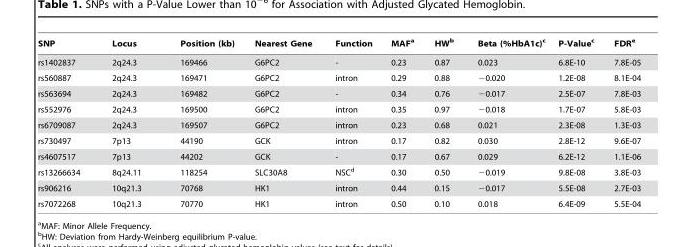table: (37, 37, 640, 208)
table column: (465, 37, 551, 208), (160, 37, 243, 208), (243, 37, 323, 208), (95, 37, 160, 208), (37, 37, 95, 208), (323, 37, 381, 208), (551, 37, 603, 208), (381, 37, 423, 208), (423, 37, 465, 208), (603, 37, 640, 208)
table column header: (37, 37, 640, 52)
table row: (37, 52, 640, 69), (37, 163, 640, 180), (37, 69, 640, 85), (37, 85, 640, 101), (37, 101, 640, 117), (37, 132, 640, 148), (37, 37, 640, 52), (37, 117, 640, 132), (37, 148, 640, 163), (37, 180, 640, 195), (37, 195, 640, 208)
